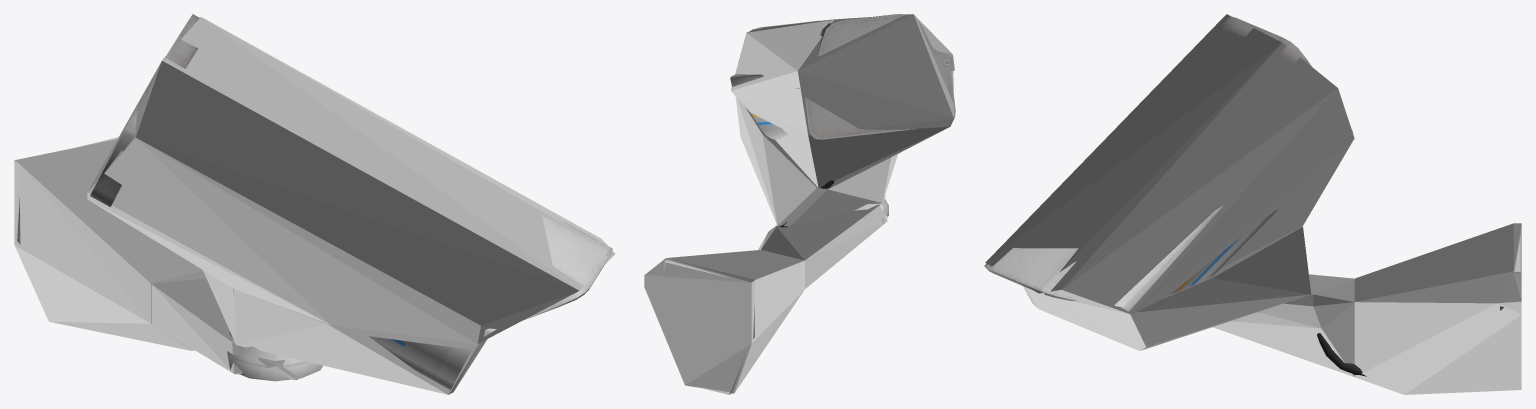
File: SM_CCTVCamera_Right.fbx
3 views of the same model, side by side, from view 1: azimuth 30°, elevation 25°; view 2: azimuth 150°, elevation 25°; view 3: azimuth 270°, elevation 25° (orthographic). The views are drawn at different scales.
Visible parts, largest first — view 1: SM_CCTVCamera_Right_ConvexHulls, SM_CCTVCamera_Right; view 2: SM_CCTVCamera_Right_ConvexHulls, SM_CCTVCamera_Right; view 3: SM_CCTVCamera_Right_ConvexHulls, SM_CCTVCamera_Right.
Boxes of the visible parts, box(x1,y1,x2,y2) form: SM_CCTVCamera_Right_ConvexHulls: box(14, 17, 615, 394); SM_CCTVCamera_Right: box(17, 14, 612, 389); SM_CCTVCamera_Right_ConvexHulls: box(644, 14, 953, 393); SM_CCTVCamera_Right: box(650, 14, 955, 394); SM_CCTVCamera_Right_ConvexHulls: box(985, 14, 1521, 394); SM_CCTVCamera_Right: box(984, 16, 1520, 376).
Bounding box in the file's own units: 54.65 × 79.31 × 53.16.
Materials: 3 (2 with a texture image).
